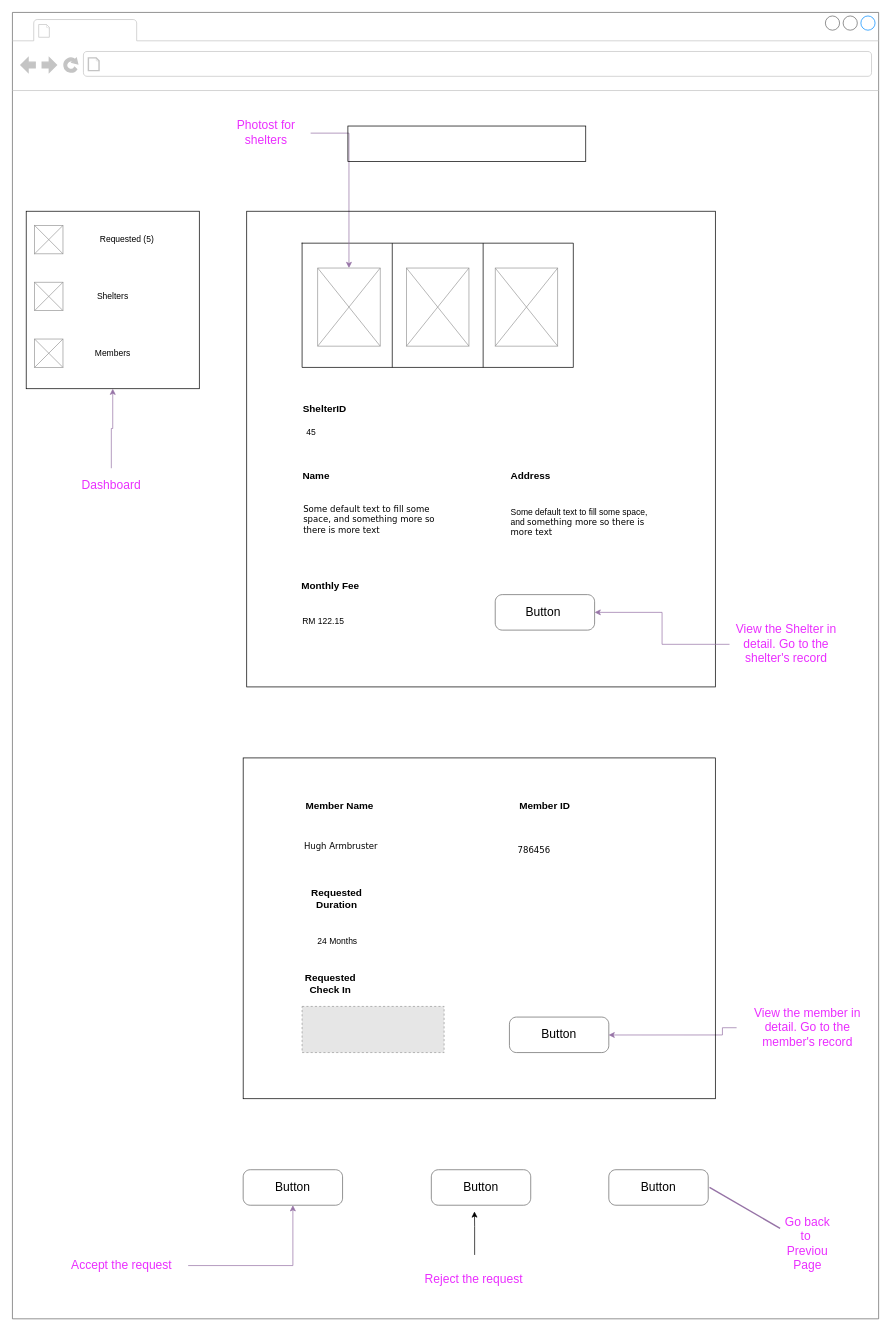
This 891x1331 diagram has some shape labels left out. Grey dashed boxes stand in for pictures. Here are the shapes that lost their labels. From the top down, the centre of each, then its label:
(93,29): Page 1
(193,63): https://www.default.com
(466,143): Title 1
